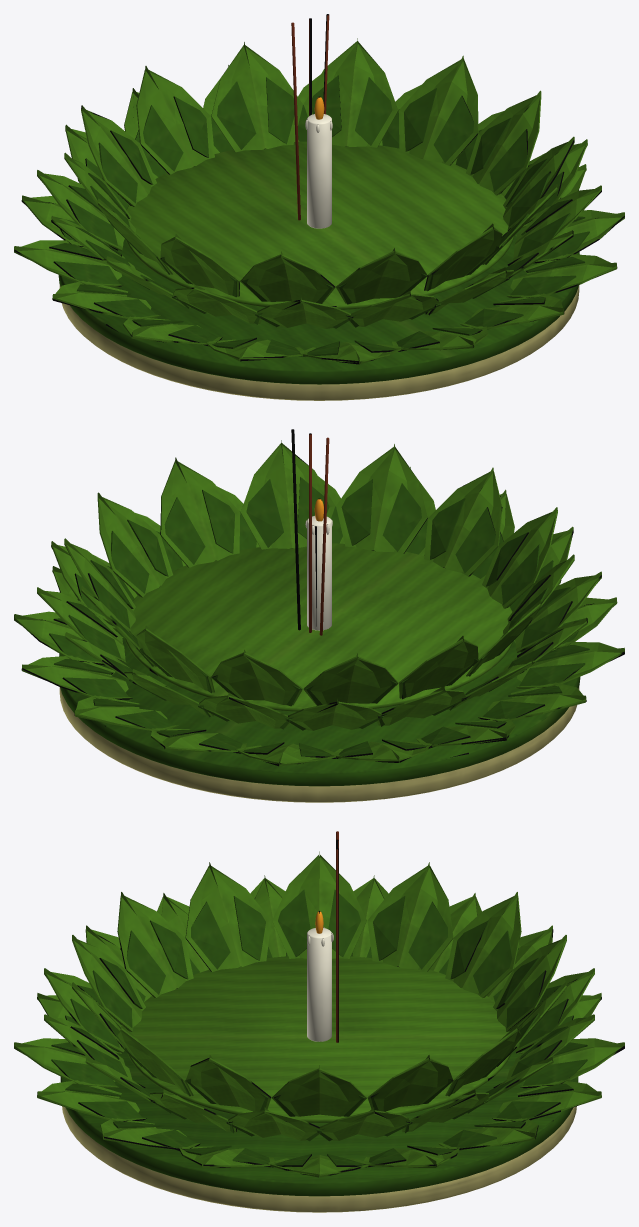
Rendered from krathong.glb.
The picture shows the model from 3 angles, top to bottom: view 1: azimuth 30°, elevation 25°; view 2: azimuth 150°, elevation 25°; view 3: azimuth 270°, elevation 25°; orthographic projection.
Parts seen in each view (by area): view 1: Krathong_WebMesh; view 2: Krathong_WebMesh; view 3: Krathong_WebMesh.
Boxes of the visible parts, <box> form: Krathong_WebMesh: <box>14,14,624,400</box>; Krathong_WebMesh: <box>14,429,624,802</box>; Krathong_WebMesh: <box>14,831,624,1212</box>.
Bounding box in the file's own units: 0.2702 × 0.129 × 0.2702.
Materials: 1 (1 with a texture image).
